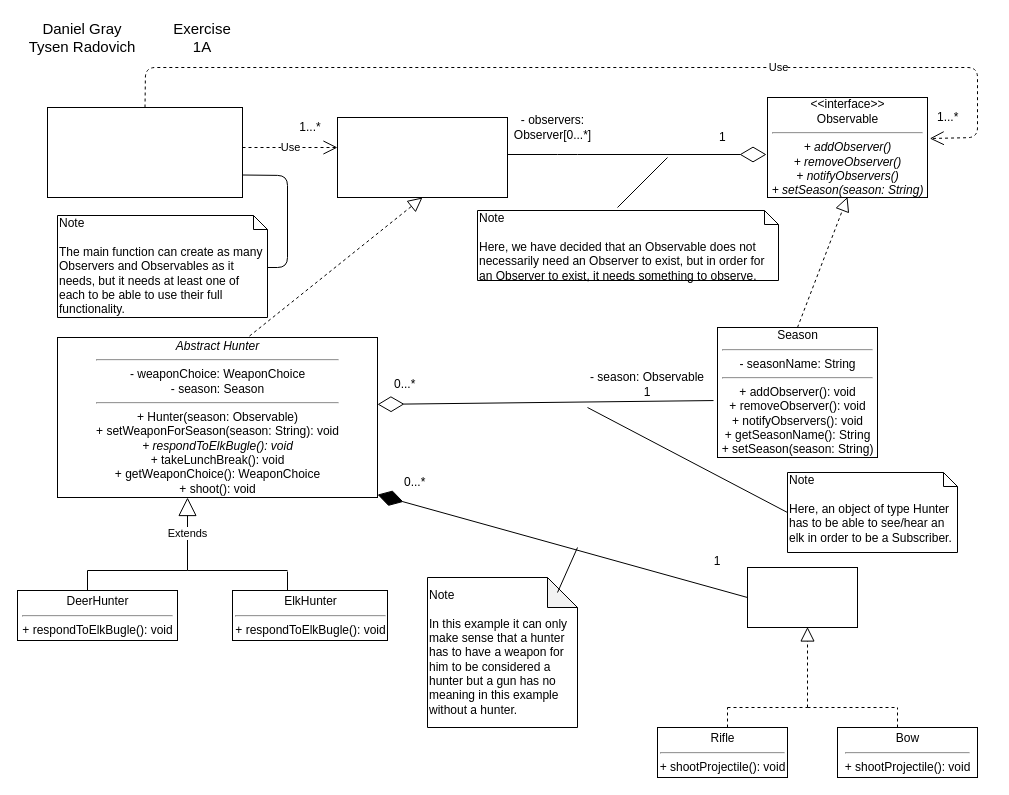
This 1009x795 diagram has some shape labels left out. Each missing label, with the centre of its shape:
"<<interface>> Observer + setWeaponForSeason(): void + shoot(): void" belongs at pixel 422 157.
"<<interface>> WeaponChoice + shootProjectile()" belongs at pixel 802 597.
"Main + main(): void" belongs at pixel 144 152.
